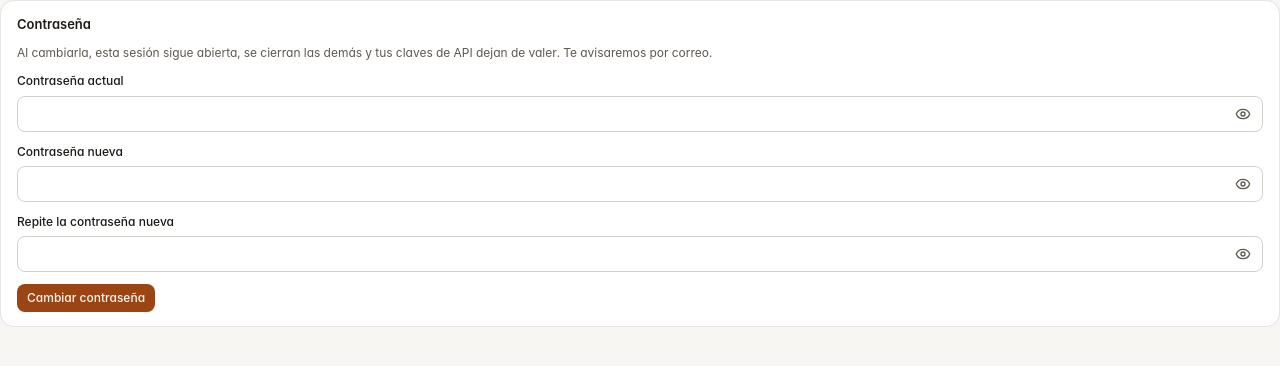
Test: CambioContrasena › aplica la política del alta a la nueva antes de enviar
Step 1. Type "Actual-2026-Segura" into the password field labelled "Contraseña actual" → (640, 114), box [17, 96, 1263, 132]
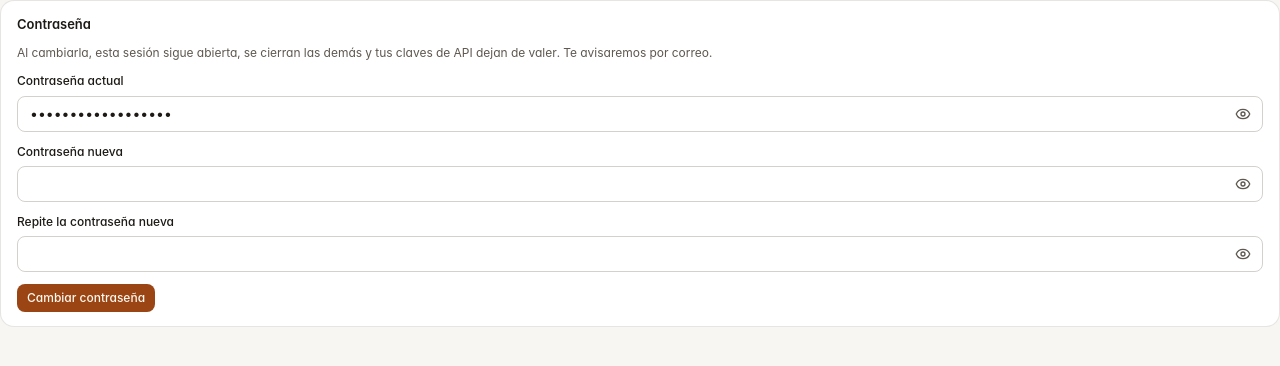
Step 2. Type "sinmayusculas2026" into the password field labelled "Contraseña nueva" → (640, 184), box [17, 166, 1263, 202]
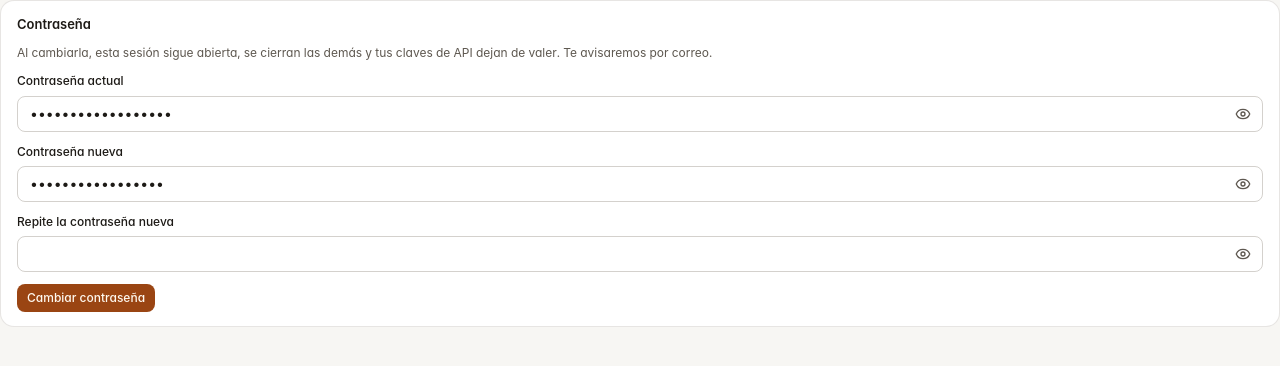
Step 3. Type "sinmayusculas2026" into the password field labelled "Repite la contraseña nueva" → (640, 254), box [17, 236, 1263, 272]
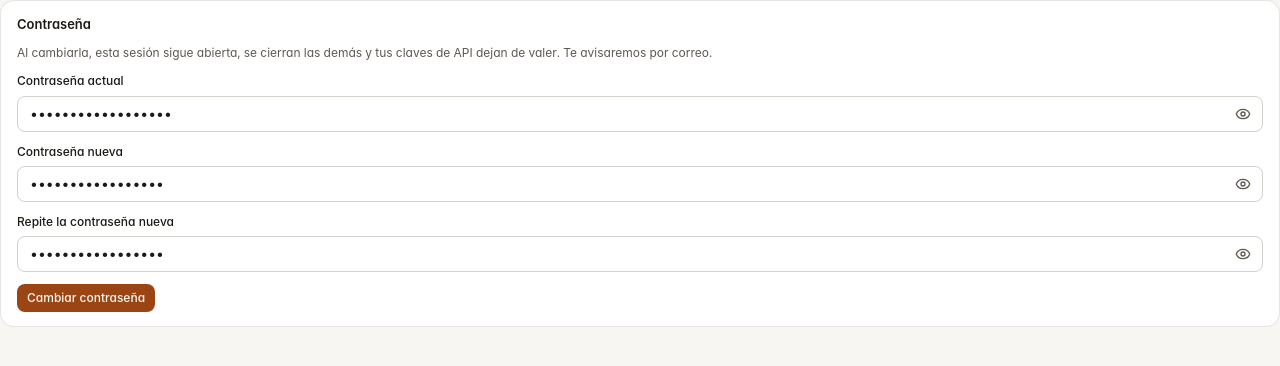
Step 4. Click the button "Cambiar contraseña" → (86, 298), box [17, 284, 155, 312]
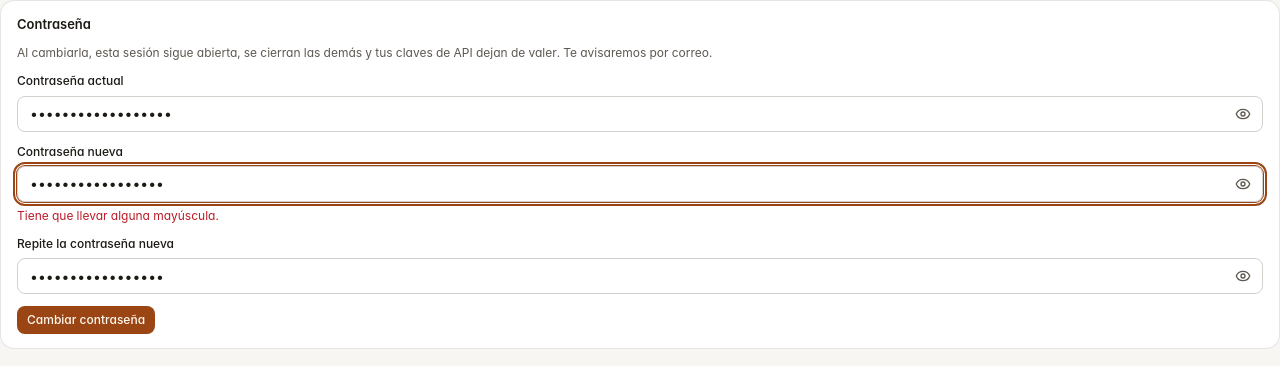
Expected: the text "Tiene que llevar alguna mayúscula." is shown, [17, 208, 219, 223]
